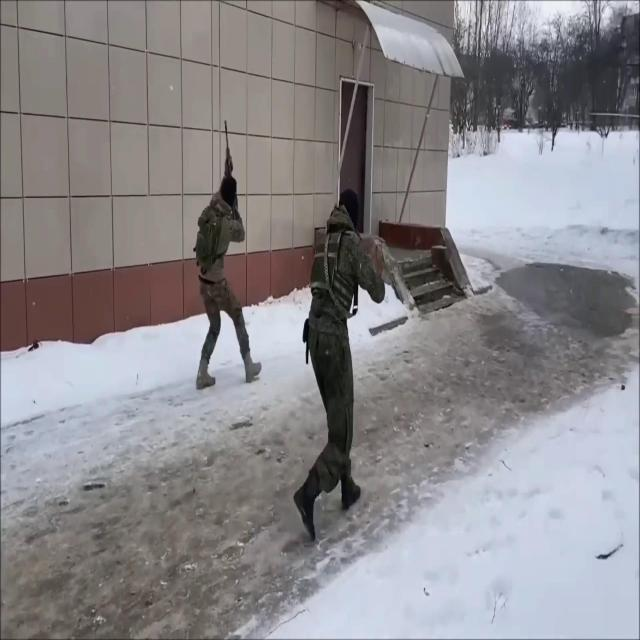pistol: (222, 118, 240, 223)
